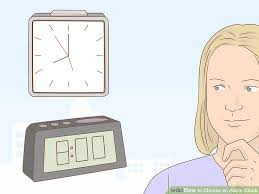alarm_clock: (24, 10, 110, 94)
